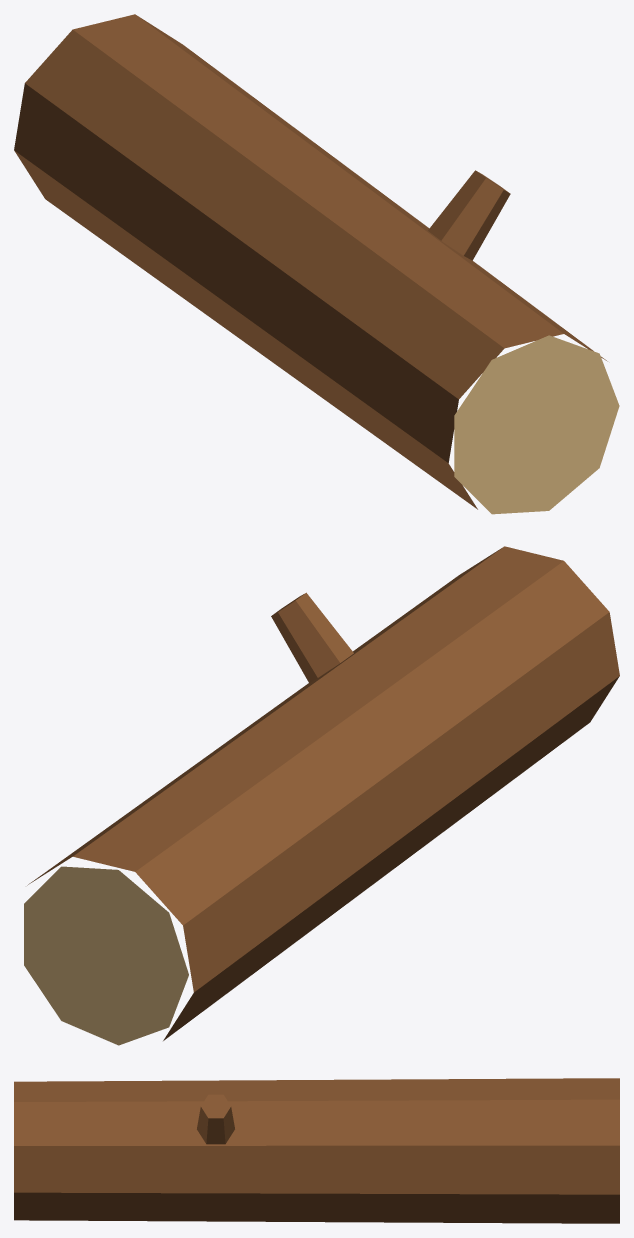
Rendered from log.glb.
3 renders of one model, top to bottom at view 1: azimuth 30°, elevation 25°; view 2: azimuth 150°, elevation 25°; view 3: azimuth 270°, elevation 25°, orthographic. The views are drawn at different scales.
Visible parts, largest first — view 1: bark, cut; view 2: bark, cut; view 3: bark.
Boxes of the visible parts, x1,y1,x2,y2 form: bark: [14, 14, 607, 509]; cut: [454, 335, 619, 514]; bark: [27, 546, 619, 1040]; cut: [24, 866, 188, 1045]; bark: [14, 1078, 619, 1223].
Size of the model in its own units: 0.6581 by 0.6804 by 2.4.
